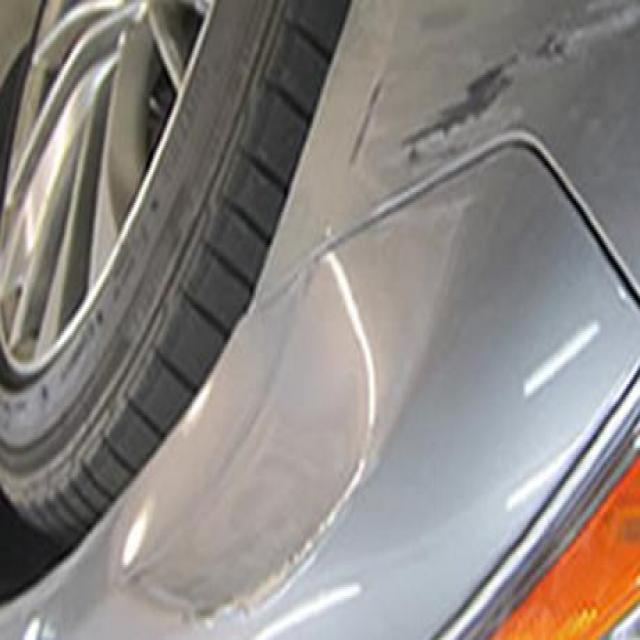scratch: (384, 14, 594, 191)
